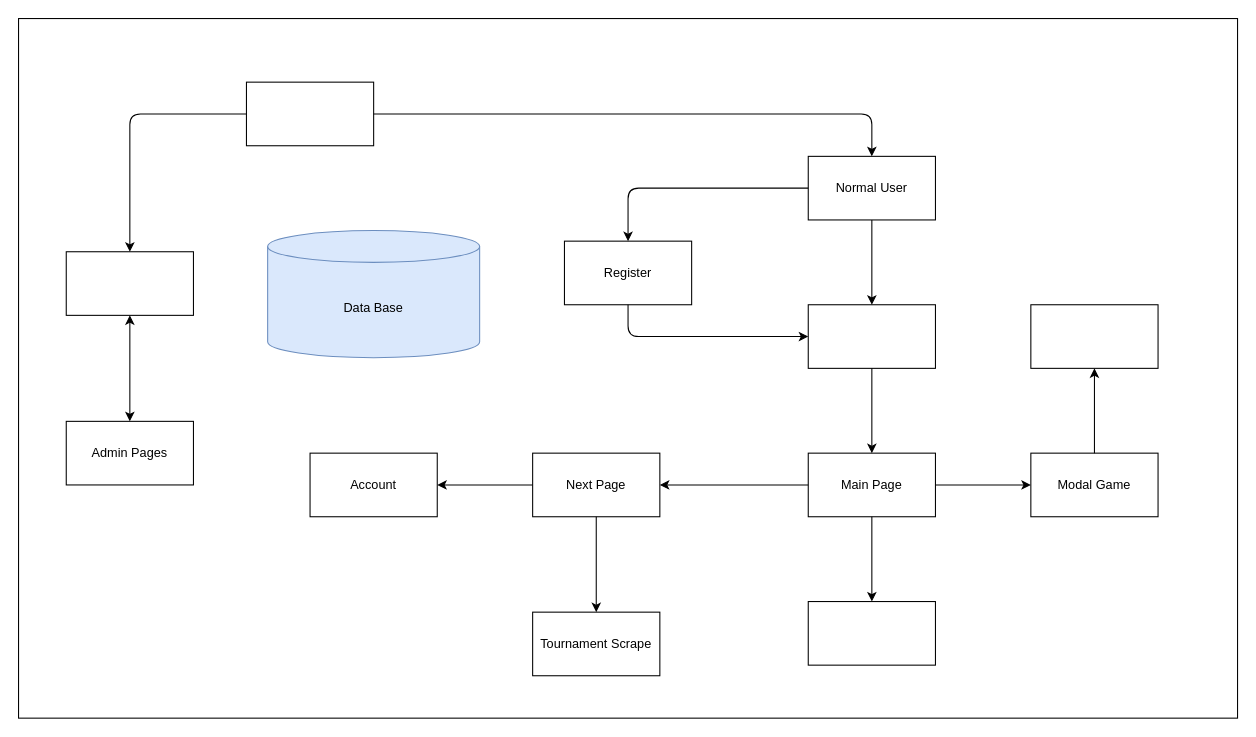
This 1256x737 diagram has some shape labels left out. The shapes that lost their labels are listed below. From the top down, each one's box as (x1, y1, x2, y2) in pixels, then its label:
(245, 81, 374, 146): Login
(65, 251, 193, 315): Admin
(807, 304, 935, 368): Home Page
(1030, 304, 1158, 368): Statistics
(807, 600, 935, 665): Game Scrape
